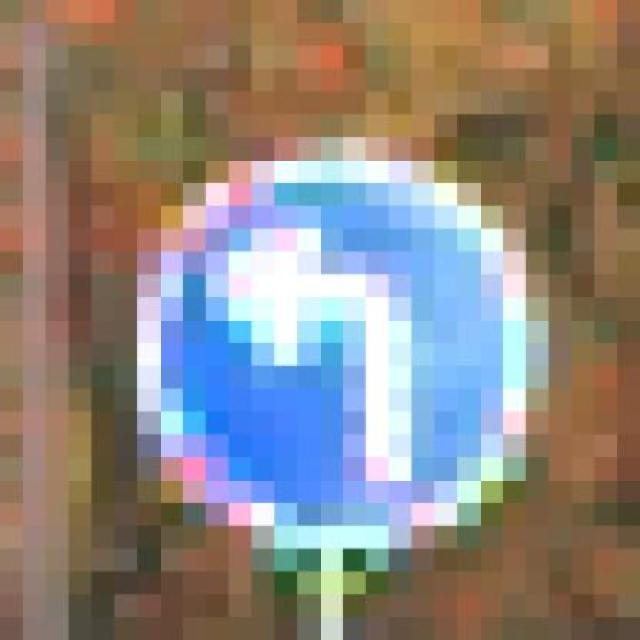Turn left ahead: (91, 114, 548, 572)
